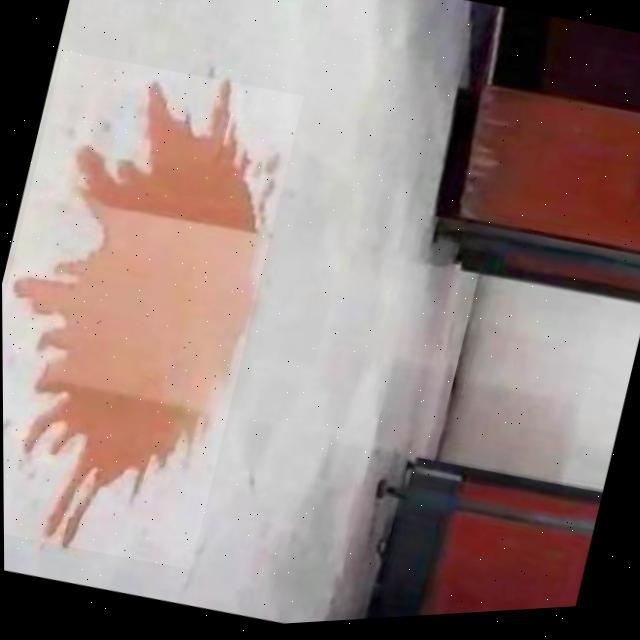spillage: (2, 83, 266, 545)
